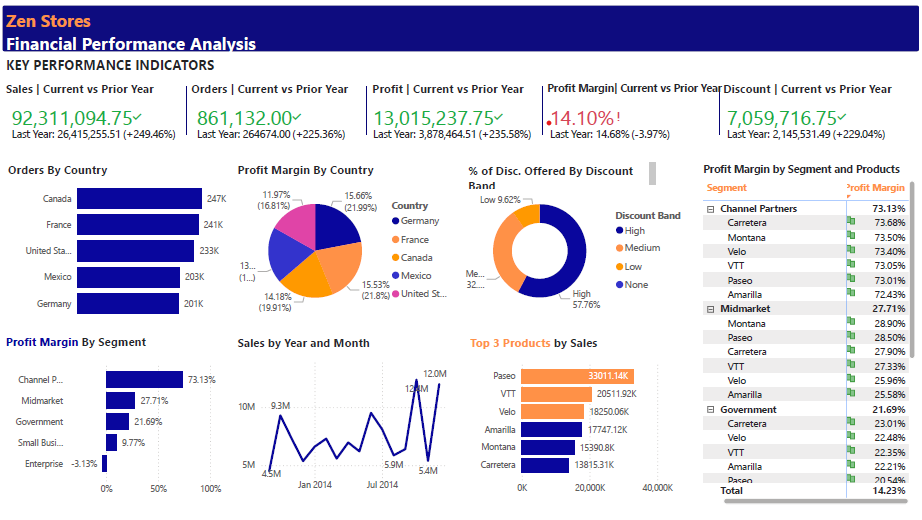

The page's visual inventory and layout, read from the dashboard file:
{"tool":"powerbi","page":{"name":"Page 1","canvas":[1280,720],"ordinal":0},"visuals":[{"type":"barChart","fields":{"Y":["Analysis.Sales Amount"],"Category":["financials.Product"]},"box":[974.7,244.8,295.4,447.1],"z":0},{"type":"shape","box":[0,0,1280,64.6],"z":1000},{"type":"shape","box":[0,69.2,1280,29.2],"z":2000},{"type":"shape","box":[0,101.5,1280,98.5],"z":3000},{"type":"shape","box":[646.2,215.4,316.9,24.6],"z":3000,"group":"g3"},{"type":"group","id":"g1","title":"Group 1","box":[323.1,215.4,316.9,476.9],"z":4000},{"type":"group","id":"g2","title":"Group 2","box":[1.5,244.6,316.9,447.7],"z":4000,"group":"g5"},{"type":"shape","box":[1.5,215.4,316.9,24.6],"z":5000,"group":"g5"},{"type":"group","id":"g3","title":"Group 3","box":[646.2,215.4,316.9,476.9],"z":5000},{"type":"shape","box":[973.8,215.4,306.2,24.6],"z":6000},{"type":"textbox","box":[0,0,223.1,43.1],"z":7000},{"type":"shape","box":[1.5,244.6,316.9,206.2],"z":7000,"group":"g2"},{"type":"shape","box":[323.1,244.6,316.9,206.2],"z":7000,"group":"g4"},{"type":"shape","box":[646.2,244.6,316.9,206.2],"z":7000,"group":"g3"},{"type":"textbox","box":[0,0,378.5,73.8],"z":8000},{"type":"shape","box":[1.5,486.1,316.9,206.2],"z":8000,"group":"g2"},{"type":"shape","box":[323.1,486.1,316.9,206.2],"z":8000,"group":"g4"},{"type":"shape","box":[646.2,486.2,316.9,206.2],"z":8000,"group":"g3"},{"type":"textbox","box":[0,64.6,500,46.2],"z":9000},{"type":"kpi","fields":{"Indicator":["Analysis.Sales Amount"],"TrendLine":["Date Table.Year"],"Goal":["Analysis.Sales Amount LY"]},"box":[0,130.2,270.8,69.2],"z":10000},{"type":"textbox","box":[0,99.7,270.8,46.2],"z":11000},{"type":"shape","box":[3,456.9,315.4,24.6],"z":11000,"group":"g2"},{"type":"shape","box":[324.6,456.9,315.4,24.6],"z":11000,"group":"g4"},{"type":"shape","box":[647.7,456.9,315.4,24.6],"z":11000,"group":"g3"},{"type":"shape","box":[112.3,113.8,290.8,67.7],"z":12000},{"type":"kpi","fields":{"TrendLine":["Date Table.Year"],"Indicator":["Analysis.Orders"],"Goal":["Analysis.Orders LY"]},"box":[258.5,130.2,270.8,69.2],"z":13000},{"type":"kpi","fields":{"TrendLine":["Date Table.Year"],"Indicator":["Analysis.Profit"],"Goal":["Analysis.Profit LY"]},"box":[505.1,130.2,270.8,69.2],"z":14000},{"type":"shape","box":[323.1,215.4,316.9,24.6],"z":14000,"group":"g1"},{"type":"kpi","fields":{"TrendLine":["Date Table.Year"],"Indicator":["Analysis.Profit Margin"],"Goal":["Analysis.Profit Margin LY"]},"box":[751.8,130.2,270.8,69.2],"z":15000},{"type":"kpi","fields":{"TrendLine":["Date Table.Year"],"Indicator":["Analysis.Discount Offered"],"Goal":["Analysis.Discount Offered LY"]},"box":[998.5,130.2,270.8,69.2],"z":16000},{"type":"group","id":"g4","title":"Group 2","box":[323.1,244.6,316.9,447.7],"z":16001,"group":"g1"},{"type":"shape","box":[363.1,113.8,290.8,67.7],"z":17000},{"type":"shape","box":[609.2,113.8,290.8,67.7],"z":18000},{"type":"shape","box":[855.4,113.8,290.8,67.7],"z":19000},{"type":"group","id":"g5","title":"Group 4","box":[1.5,215.4,316.9,476.9],"z":20000},{"type":"textbox","box":[258.5,99.7,270.8,46.2],"z":21000},{"type":"textbox","box":[512.3,99.7,270.8,46.2],"z":22000},{"type":"textbox","box":[755.4,99.7,270.8,46.2],"z":23000},{"type":"textbox","box":[1001.5,99.7,270.8,46.2],"z":24000},{"type":"barChart","fields":{"Category":["financials.Country"],"Y":["Analysis.Orders"]},"box":[13.4,228,317.1,223.2],"z":25000},{"type":"textbox","box":[3.1,213.8,270.8,46.2],"z":26000},{"type":"pieChart","fields":{"Category":["financials.Country"],"Y":["Analysis.Profit Margin"]},"box":[324.6,240,315.4,206.2],"z":27000},{"type":"textbox","box":[324.1,213.8,271.3,46],"z":28000},{"type":"donutChart","fields":{"Category":["financials.Discount Band"],"Y":["Analysis.Discount Offered"]},"box":[640,240,323.1,206.2],"z":29000},{"type":"textbox","box":[646.2,215.4,270.8,46.2],"z":30000},{"type":"barChart","fields":{"Category":["financials.Segment"],"Y":["Analysis.Profit Margin"]},"box":[1.5,486.2,315.4,206.2],"z":31000},{"type":"textbox","box":[0,453.7,270.7,45.1],"z":32000},{"type":"lineChart","fields":{"Category":["Date Table.Date.Variation.Date Hierarchy.Year","Date Table.Date.Variation.Date Hierarchy.Month"],"Y":["Analysis.Sales Amount"]},"box":[323.2,481.7,313.4,206.1],"z":33000},{"type":"barChart","fields":{"Y":["Analysis.Sales Amount"],"Category":["financials.Product"]},"box":[657.3,485.4,306.1,206.1],"z":34000},{"type":"textbox","box":[324.1,454,271.3,46],"z":35000},{"type":"textbox","box":[648.3,454,271.3,46],"z":36000},{"type":"pivotTable","fields":{"Values":["Analysis.Profit Margin"],"Rows":["financials.Segment","financials.Product"]},"box":[973.6,240.2,305.7,462.1],"z":37000},{"type":"textbox","box":[973.6,213.8,305.7,46],"z":38000}]}

Visuals, with their boxes in screenshot pixels (x1, y1, x2, y2), scaled from the page's 1280x720 canvas onto the 922x520 screenshot:
barChart - Analysis.Sales Amount x financials.Product: [left=702, top=177, right=915, bottom=500]
shape: [left=0, top=0, right=921, bottom=47]
shape: [left=0, top=50, right=921, bottom=71]
shape: [left=0, top=73, right=921, bottom=144]
shape: [left=465, top=156, right=694, bottom=173]
"Group 1" group: [left=233, top=156, right=461, bottom=500]
"Group 2" group: [left=1, top=177, right=229, bottom=500]
shape: [left=1, top=156, right=229, bottom=173]
"Group 3" group: [left=465, top=156, right=694, bottom=500]
shape: [left=701, top=156, right=921, bottom=173]
textbox: [left=0, top=0, right=161, bottom=31]
shape: [left=1, top=177, right=229, bottom=326]
shape: [left=233, top=177, right=461, bottom=326]
shape: [left=465, top=177, right=694, bottom=326]
textbox: [left=0, top=0, right=273, bottom=53]
shape: [left=1, top=351, right=229, bottom=500]
shape: [left=233, top=351, right=461, bottom=500]
shape: [left=465, top=351, right=694, bottom=500]
textbox: [left=0, top=47, right=360, bottom=80]
kpi - Analysis.Sales Amount x Date Table.Year: [left=0, top=94, right=195, bottom=144]
textbox: [left=0, top=72, right=195, bottom=105]
shape: [left=2, top=330, right=229, bottom=348]
shape: [left=234, top=330, right=461, bottom=348]
shape: [left=467, top=330, right=694, bottom=348]
shape: [left=81, top=82, right=290, bottom=131]
kpi - Date Table.Year x Analysis.Orders: [left=186, top=94, right=381, bottom=144]
kpi - Date Table.Year x Analysis.Profit: [left=364, top=94, right=559, bottom=144]
shape: [left=233, top=156, right=461, bottom=173]
kpi - Date Table.Year x Analysis.Profit Margin: [left=542, top=94, right=737, bottom=144]
kpi - Date Table.Year x Analysis.Discount Offered: [left=719, top=94, right=914, bottom=144]
"Group 2" group: [left=233, top=177, right=461, bottom=500]
shape: [left=262, top=82, right=471, bottom=131]
shape: [left=439, top=82, right=648, bottom=131]
shape: [left=616, top=82, right=826, bottom=131]
"Group 4" group: [left=1, top=156, right=229, bottom=500]
textbox: [left=186, top=72, right=381, bottom=105]
textbox: [left=369, top=72, right=564, bottom=105]
textbox: [left=544, top=72, right=739, bottom=105]
textbox: [left=721, top=72, right=916, bottom=105]
barChart - financials.Country x Analysis.Orders: [left=10, top=165, right=238, bottom=326]
textbox: [left=2, top=154, right=197, bottom=188]
pieChart - financials.Country x Analysis.Profit Margin: [left=234, top=173, right=461, bottom=322]
textbox: [left=233, top=154, right=429, bottom=188]
donutChart - financials.Discount Band x Analysis.Discount Offered: [left=461, top=173, right=694, bottom=322]
textbox: [left=465, top=156, right=661, bottom=189]
barChart - financials.Segment x Analysis.Profit Margin: [left=1, top=351, right=228, bottom=500]
textbox: [left=0, top=328, right=195, bottom=360]
lineChart - Date Table.Date.Variation.Date Hierarchy.Year x Date Table.Date.Variation.Date Hierarchy.Month: [left=233, top=348, right=459, bottom=497]
barChart - Analysis.Sales Amount x financials.Product: [left=473, top=351, right=694, bottom=499]
textbox: [left=233, top=328, right=429, bottom=361]
textbox: [left=467, top=328, right=662, bottom=361]
pivotTable - Analysis.Profit Margin x financials.Segment: [left=701, top=173, right=921, bottom=507]
textbox: [left=701, top=154, right=921, bottom=188]
